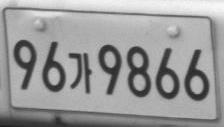6: (183, 48, 210, 102), (154, 47, 180, 99), (41, 40, 66, 92)
8: (125, 45, 152, 98)
9: (97, 43, 123, 95), (12, 38, 37, 90)
가: (68, 52, 93, 94)
